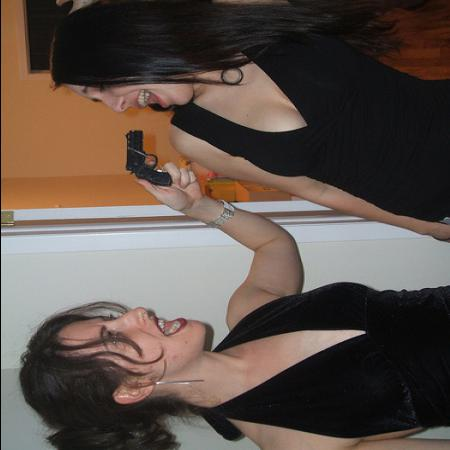Pistol: (119, 132, 174, 188)
